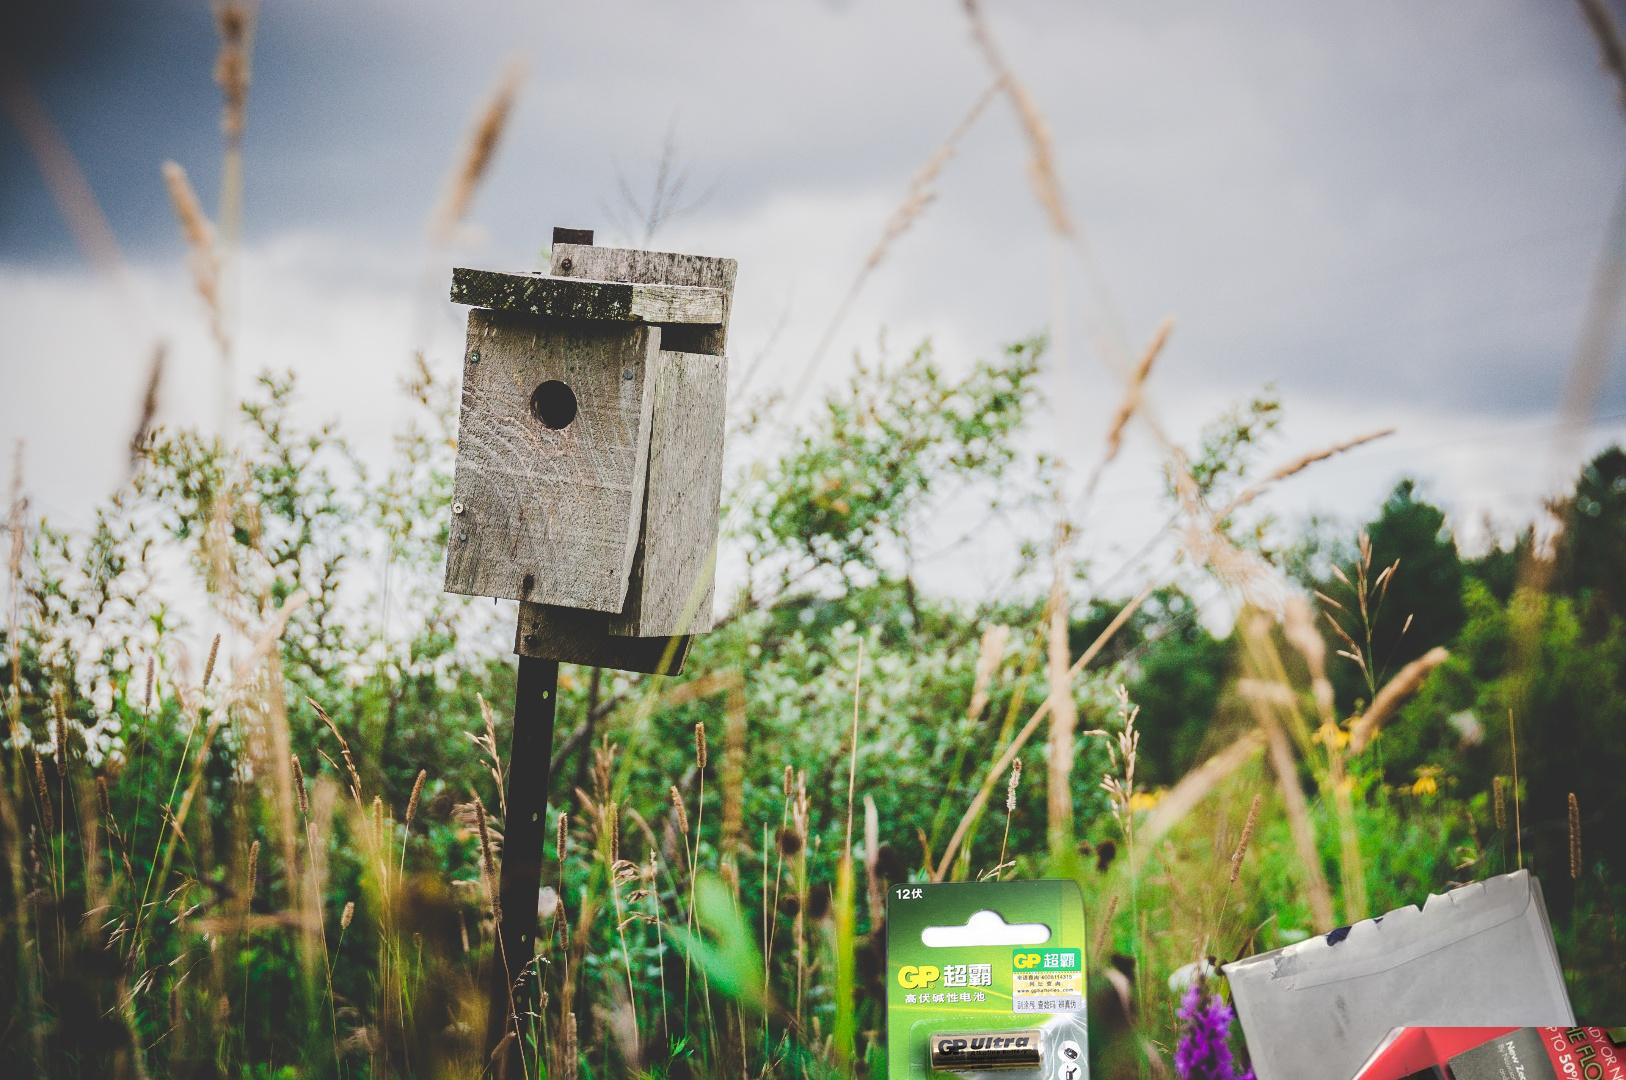battery: (877, 871, 1182, 1080)
paper: (1215, 864, 1587, 1080), (1276, 1027, 1626, 1080)
